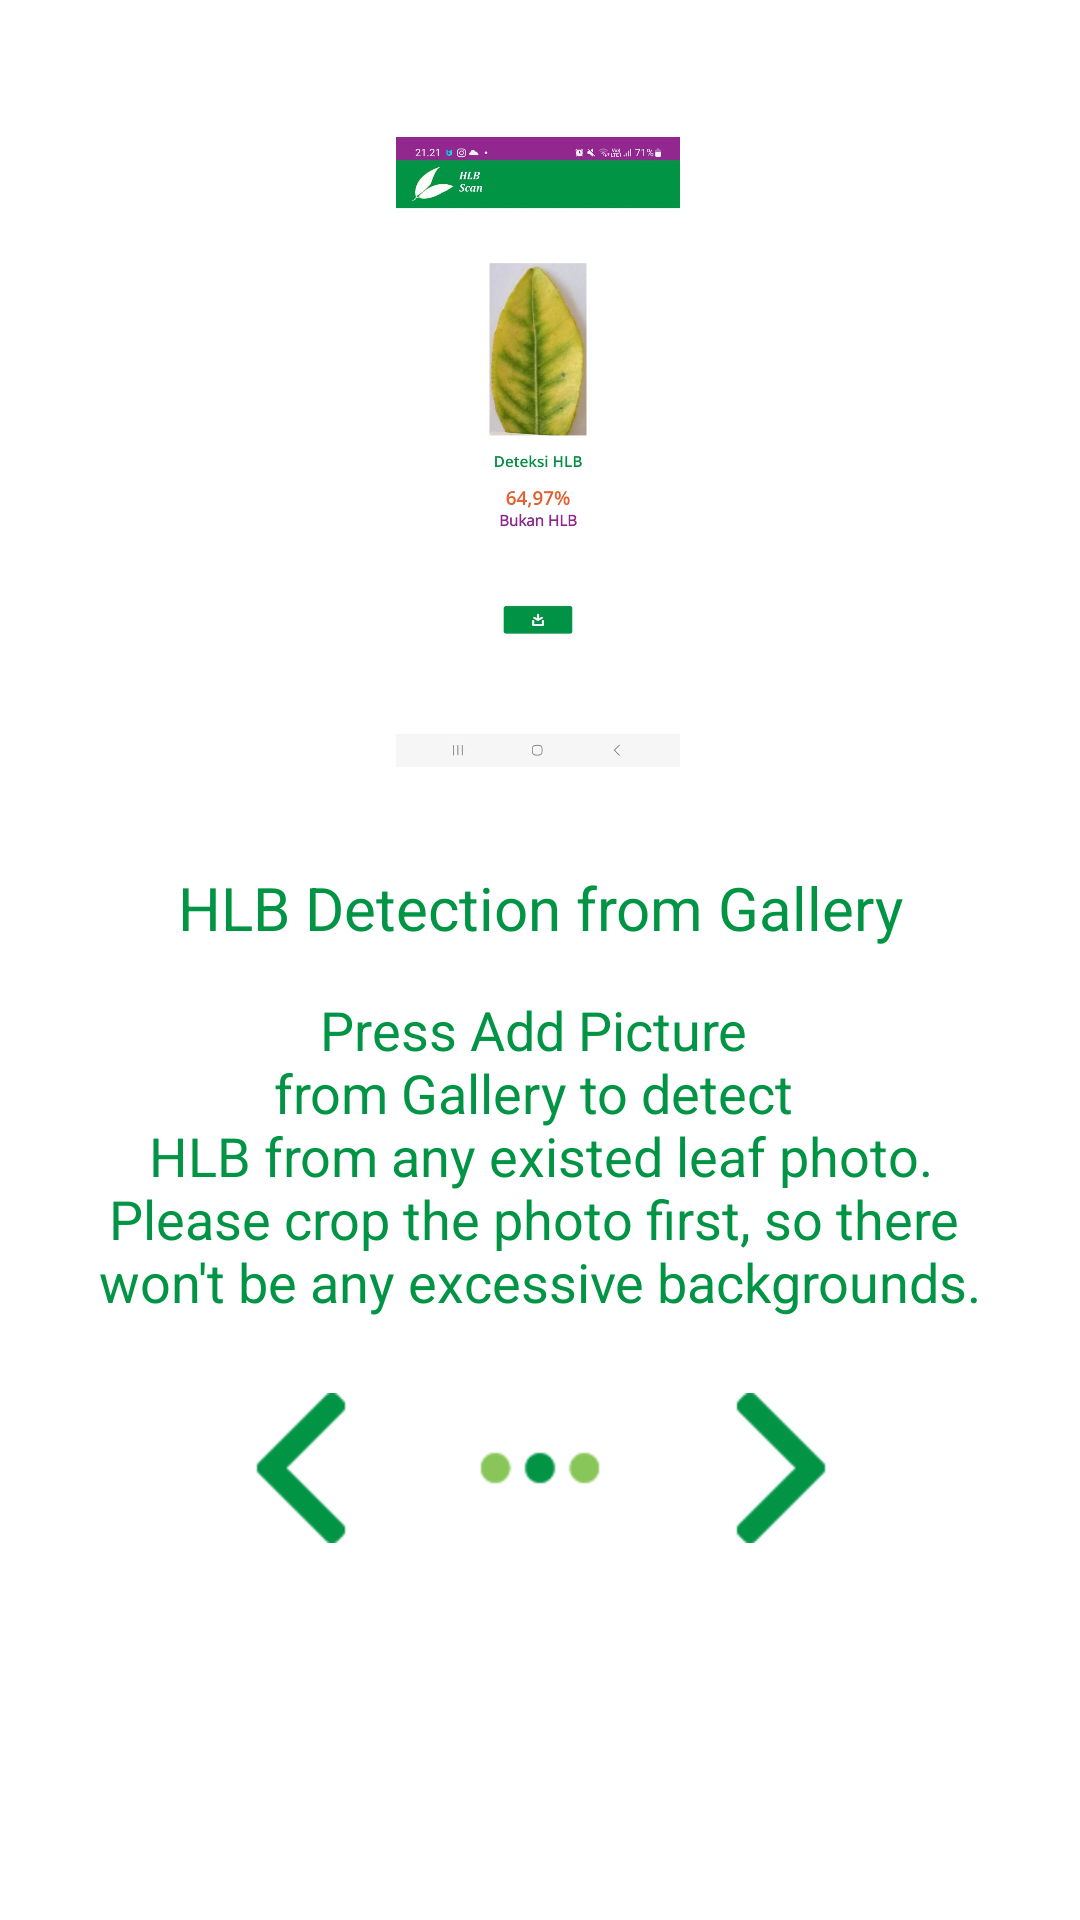

Point at icon controls on the screen. Image size 1080*1920, points as [x,y].
arrow left: [301,1468]
arrow right: [781,1468]
dot: [540,1468]
